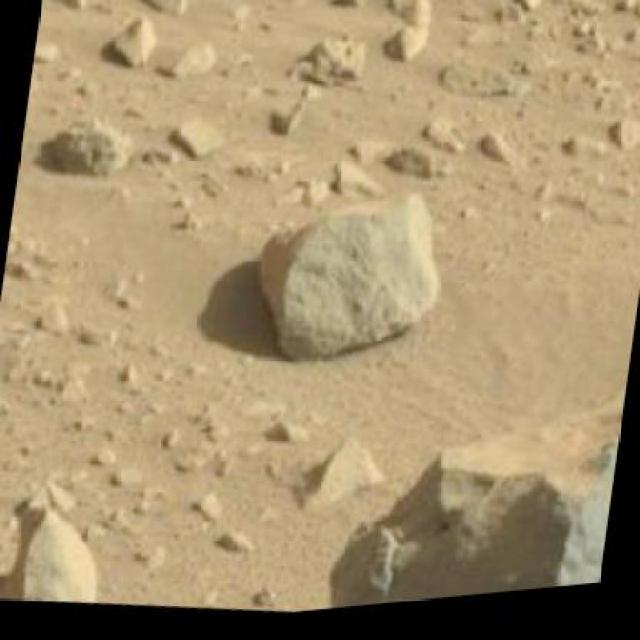rock: (272, 304, 631, 618), (241, 179, 450, 390), (0, 485, 114, 609), (102, 11, 160, 80)
